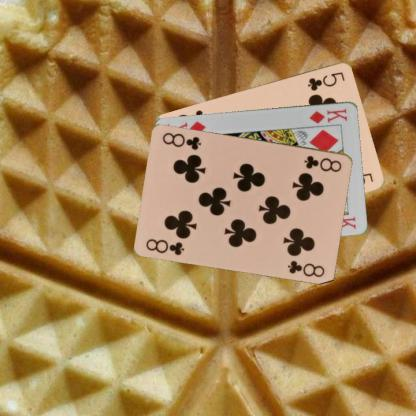5c: (305, 69, 346, 92)
8c: (302, 152, 343, 174), (144, 236, 186, 256)
Kd: (307, 106, 349, 125)
